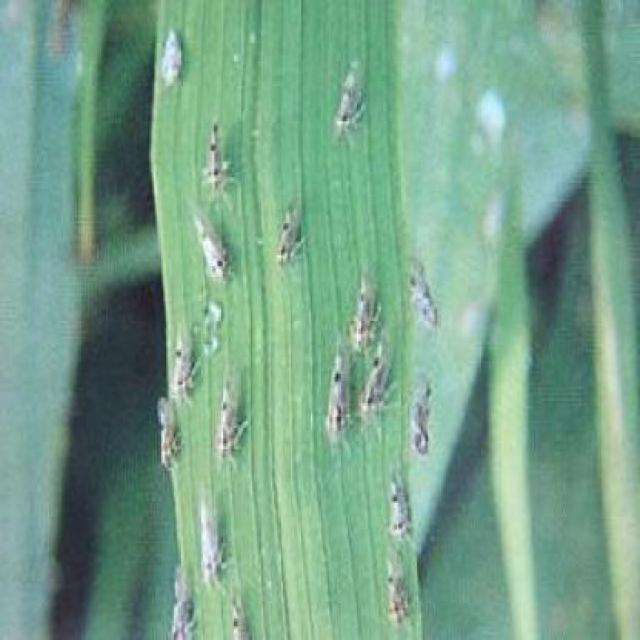brown-planthopper: (402, 257, 440, 329), (336, 56, 367, 142), (192, 212, 228, 285), (276, 196, 310, 270), (358, 358, 392, 432), (352, 274, 381, 354), (217, 377, 243, 463), (196, 500, 222, 585), (204, 118, 231, 199), (326, 349, 348, 443), (382, 562, 410, 628), (408, 375, 430, 457), (154, 396, 178, 470), (172, 332, 198, 398), (386, 480, 412, 538), (158, 28, 182, 86)
